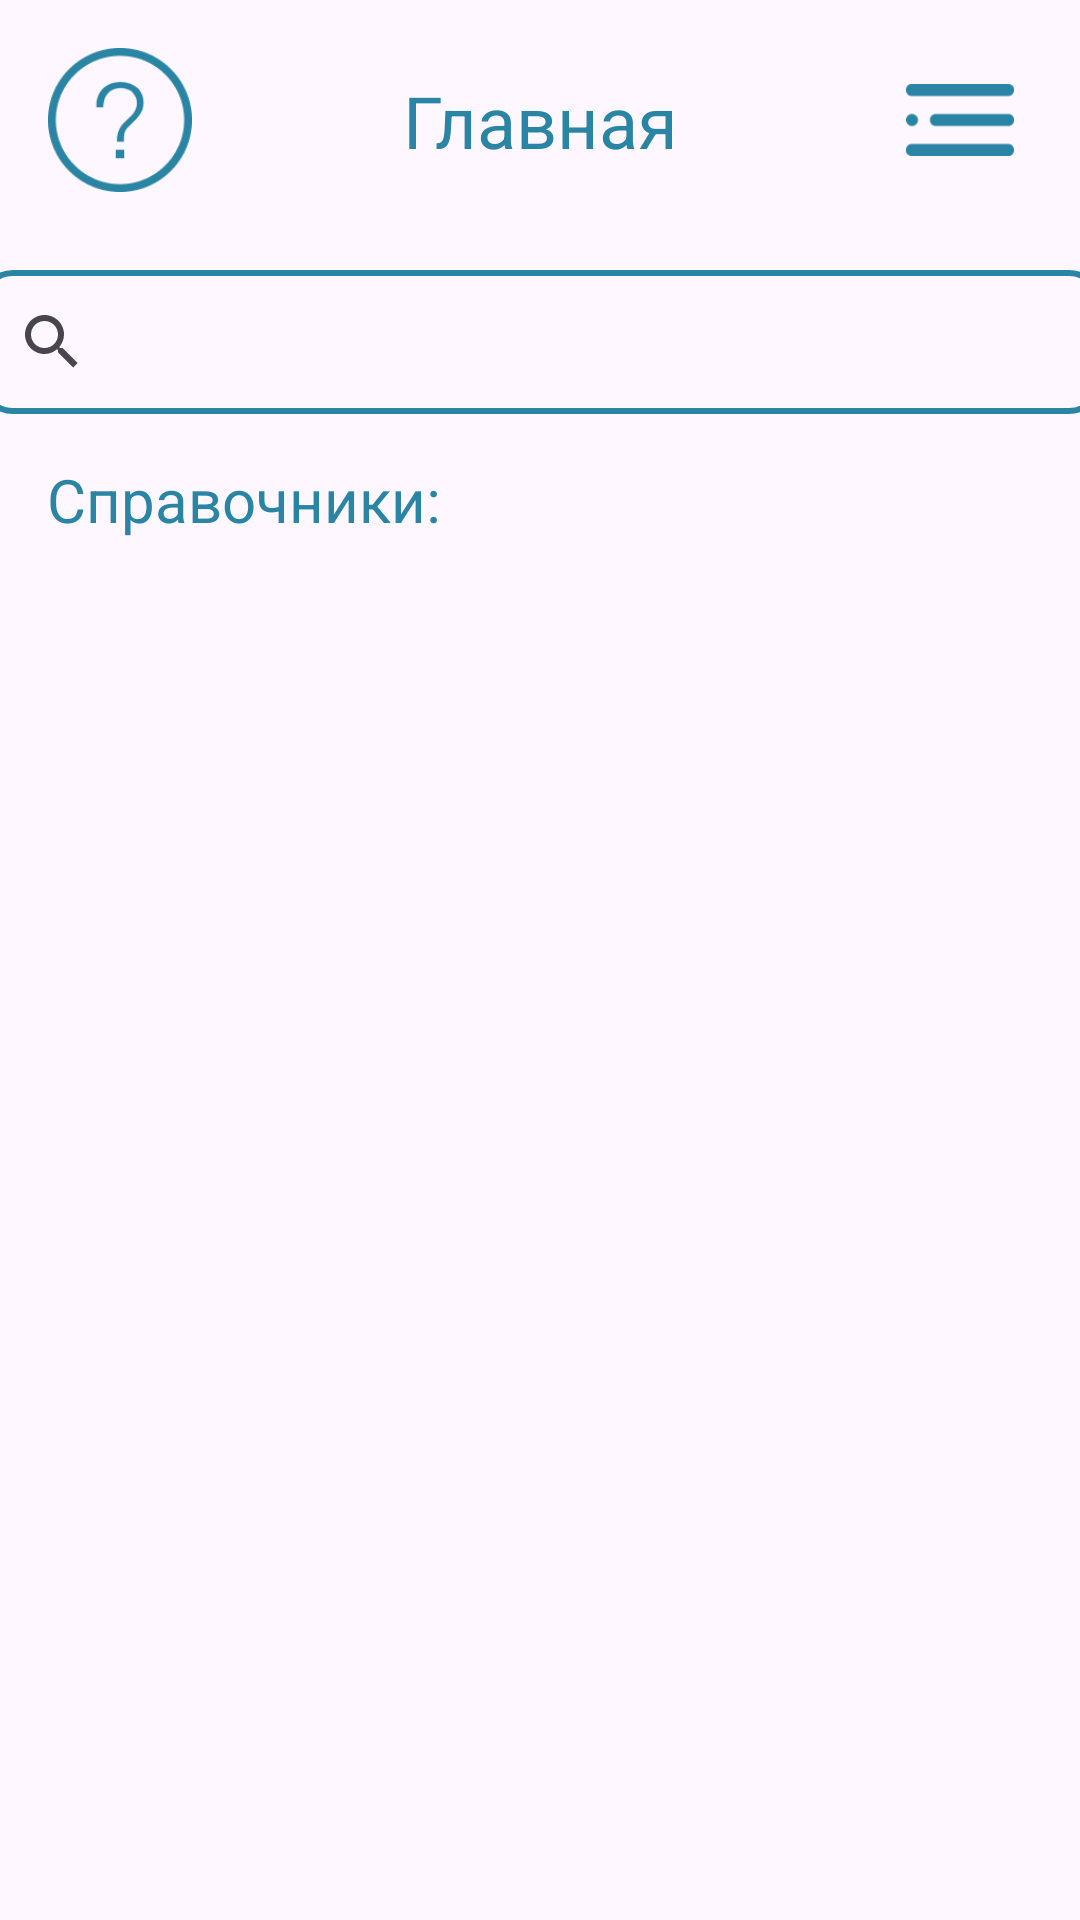

Where icons sit on this 1080×1920 app screen, as (x1, y1, x2, y2):
help: (48, 48, 192, 192)
options: (906, 84, 1014, 156)
